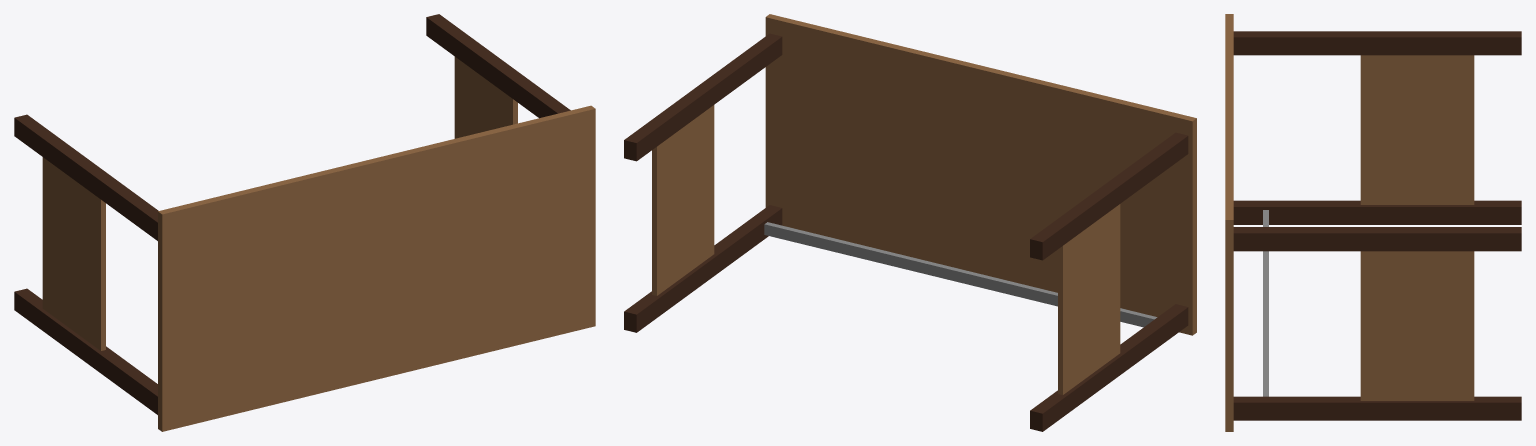
The model's file is Desk_2.obj.
3 views of the same model, side by side, from view 1: azimuth 30°, elevation 25°; view 2: azimuth 150°, elevation 25°; view 3: azimuth 270°, elevation 25° (orthographic). The views are drawn at different scales.
Parts seen in each view (by area): view 1: Desk_2; view 2: Desk_2; view 3: Desk_2.
Boxes of the visible parts, x1,y1,x2,y2 form: Desk_2: (14, 14, 595, 431); Desk_2: (624, 14, 1196, 431); Desk_2: (1225, 14, 1521, 431).
Bounding box in the file's own units: 1.56 × 0.75 × 0.9509.
